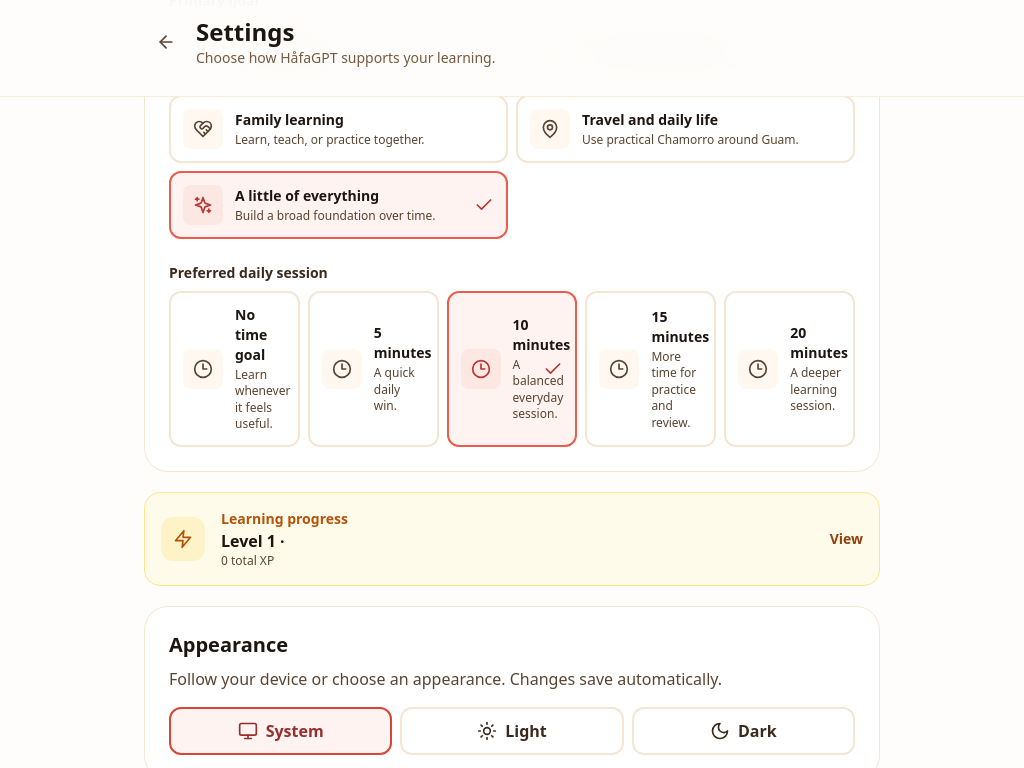
Test: learning preference settings › does not save a divergent preference when the tracked goal cannot update
The width and height of the screenshot is (1024, 768).
(page scrolled)
Click the button "15 minutes More time for practice and review." at (651, 369), box [585,291,716,447]
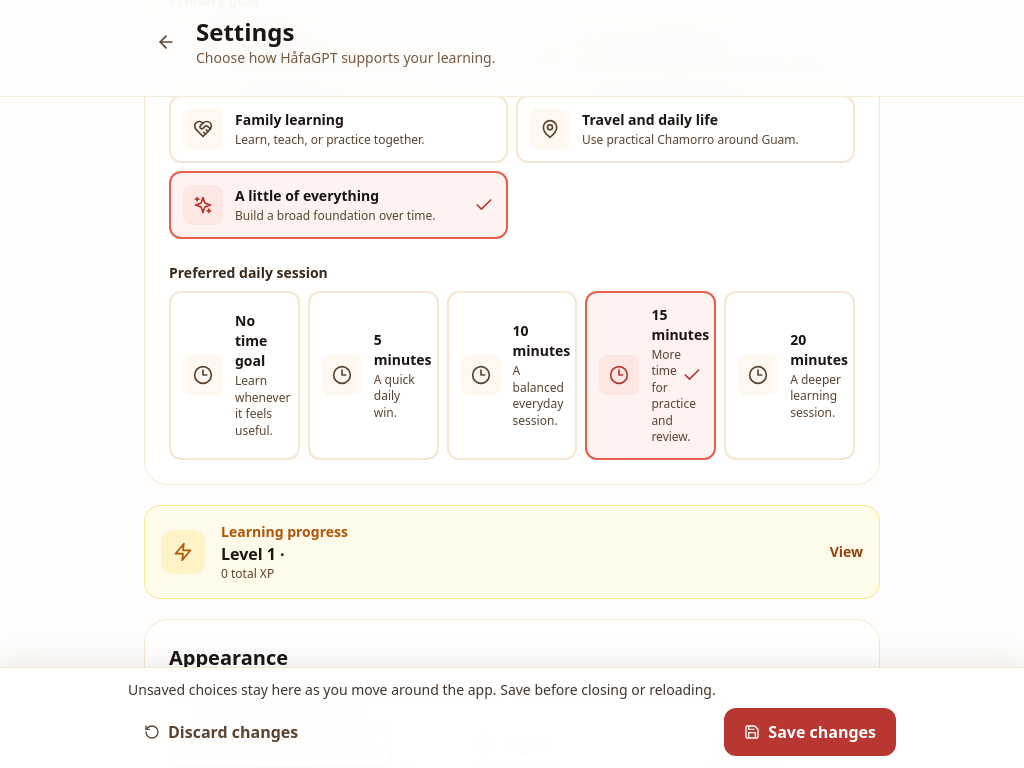
Click the button "Save changes" at (810, 732), box [724,708,896,756]
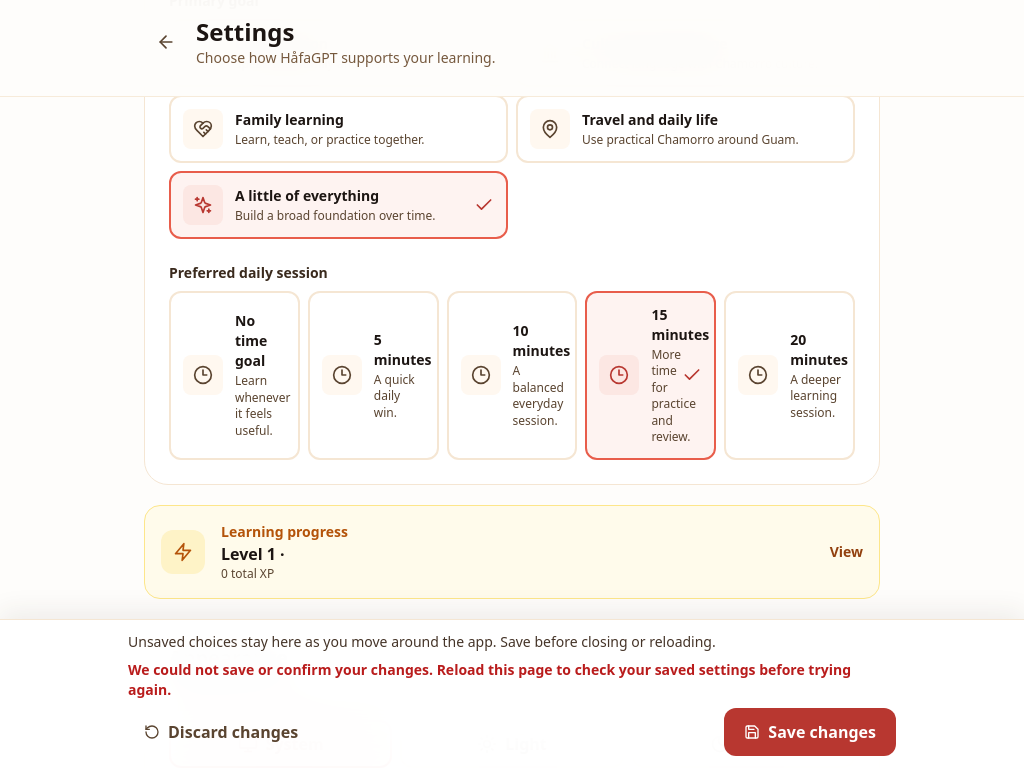
Expected: the 2nd message shows "could not save", [128,660,851,699]
